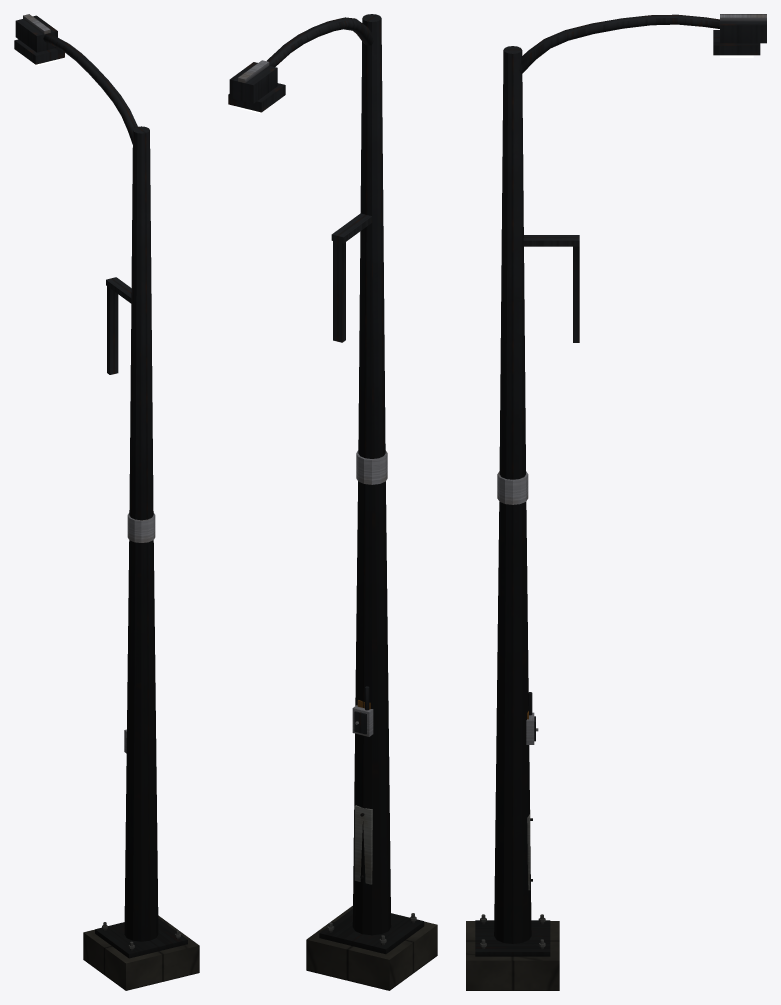
Rendered from street_lamp.glb.
3 renders of one model, left to right at view 1: azimuth 30°, elevation 25°; view 2: azimuth 150°, elevation 25°; view 3: azimuth 270°, elevation 25°, orthographic. The views are drawn at different scales.
Parts seen in each view (by area): view 1: street_lamp; view 2: street_lamp; view 3: street_lamp.
Boxes of the visible parts, left/top/right/bottom form: street_lamp: left=14, top=14, right=199, bottom=990; street_lamp: left=228, top=14, right=437, bottom=990; street_lamp: left=466, top=14, right=766, bottom=990.
Size of the model in its own units: 0.7 by 7.89 by 2.25.
